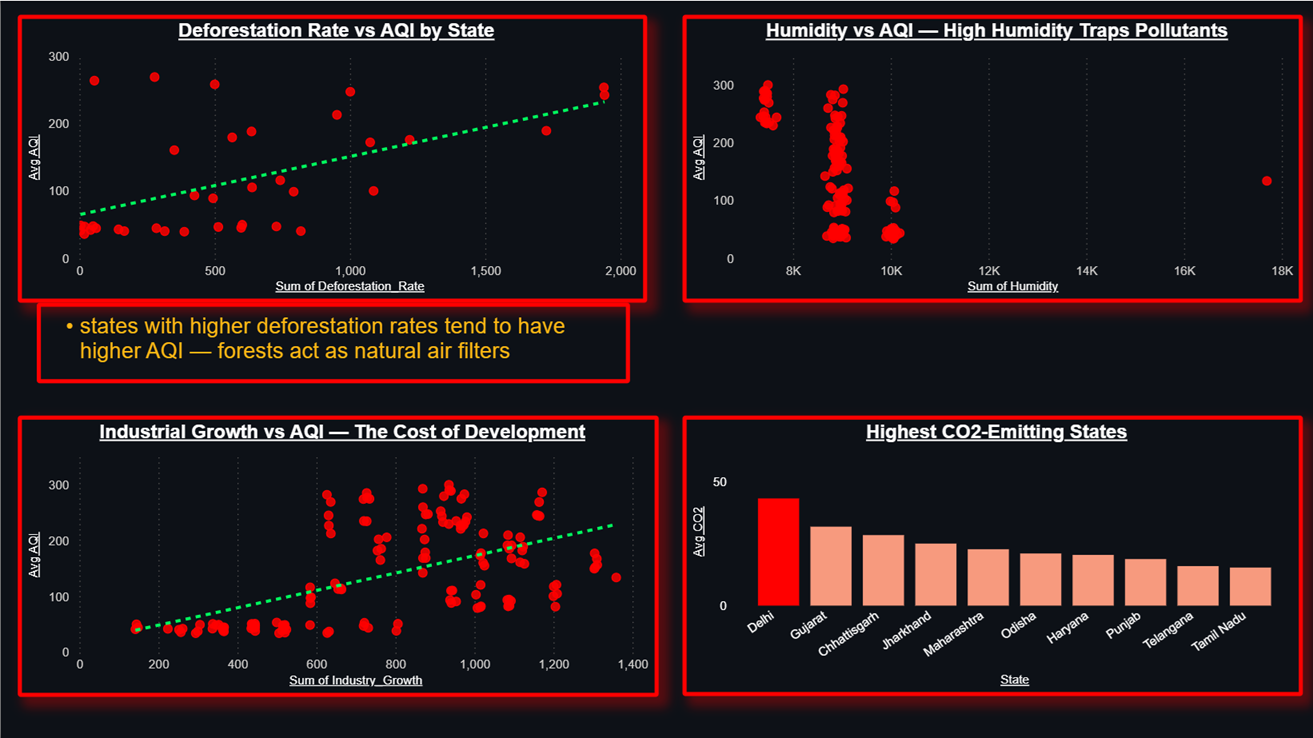

Layout of this report page (visuals, bound fields, positions):
{"tool":"powerbi","page":{"name":"Environmental Factors","canvas":[1280,720],"ordinal":3},"visuals":[{"type":"scatterChart","title":"Deforestation Rate vs AQI by State","fields":{"X":["Sum(Fact_AQI.Deforestation_Rate)"],"Y":["Fact_AQI.Avg AQI"],"Category":["Dim_City.State"]},"box":[16.7,13.3,611.7,280],"z":0},{"type":"textbox","box":[35,293.3,576.7,78.3],"z":1000},{"type":"scatterChart","title":"Industrial Growth vs AQI — The Cost of Development","fields":{"X":["Sum(Fact_AQI.Industry_Growth)"],"Y":["Fact_AQI.Avg AQI"],"Category":["Dim_City.City"]},"box":[16.7,403.3,623.3,273.3],"z":2000},{"type":"scatterChart","title":"Humidity vs AQI — High Humidity Traps Pollutants","fields":{"X":["Sum(Fact_AQI.Humidity)"],"Y":["Fact_AQI.Avg AQI"],"Category":["Dim_City.City"]},"box":[663.3,13.3,603.3,280],"z":3000},{"type":"clusteredColumnChart","title":"Highest CO2-Emitting States","fields":{"Category":["Dim_City.State"],"Y":["Fact_AQI.Avg CO2"]},"box":[663,403,603,273],"z":4000}]}

Visuals, with their boxes in screenshot pixels (x1, y1, x2, y2), scaled from the page's 1280x720 canvas onto the 1313x738 screenshot:
"Deforestation Rate vs AQI by State" scatterChart: 17,14,645,301
textbox: 36,301,627,381
"Industrial Growth vs AQI — The Cost of Development" scatterChart: 17,413,656,694
"Humidity vs AQI — High Humidity Traps Pollutants" scatterChart: 680,14,1299,301
"Highest CO2-Emitting States" clusteredColumnChart: 680,413,1299,693
